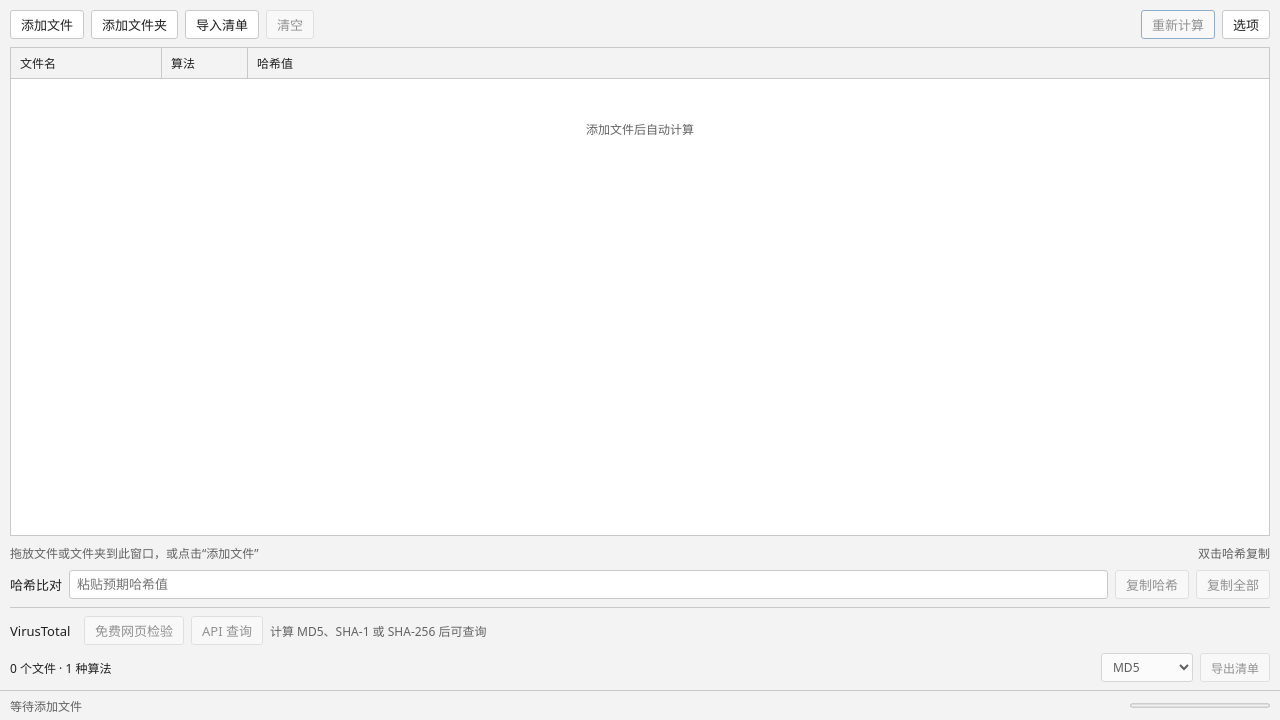
Scenario: cancels an active task and shows its final cancelled state
Click the button "添加文件" at (47, 24), box x1=10 y1=10 x2=84 y2=39
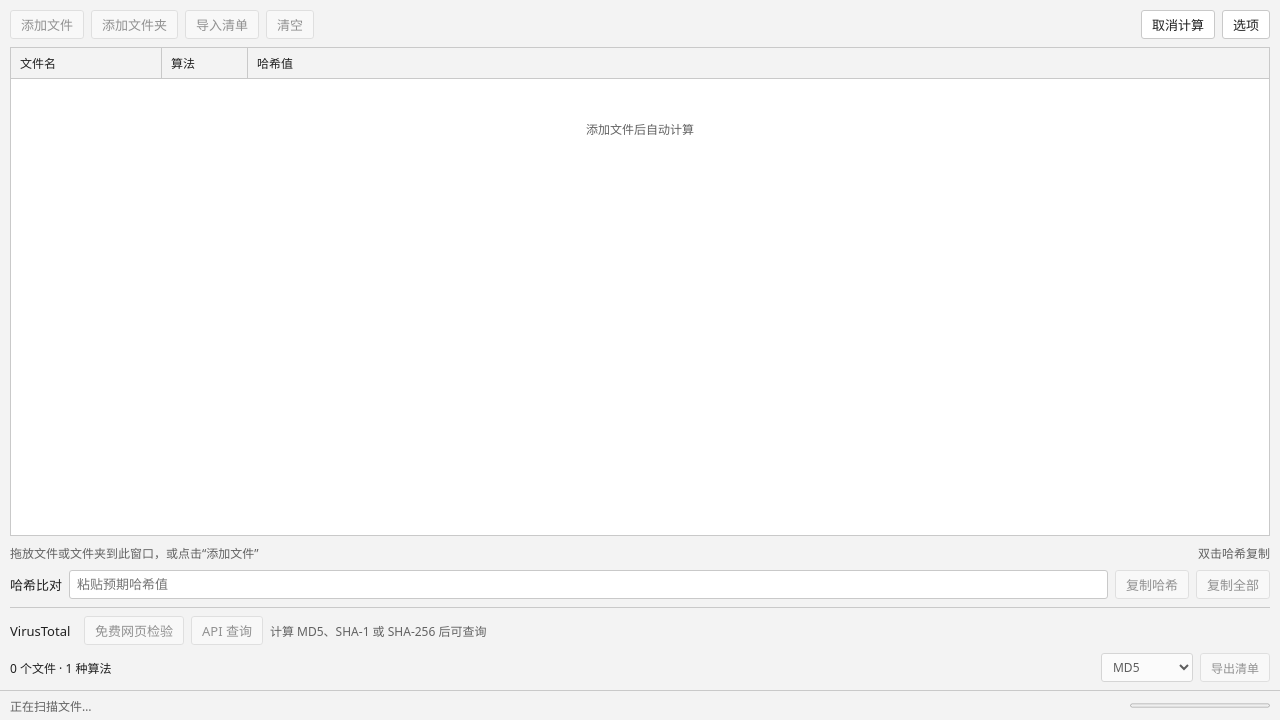
Expected: the button "取消计算" is shown
Expected: the button "添加文件" is disabled, x1=10 y1=10 x2=84 y2=39
Click the button "取消计算" at (1178, 24), box x1=1141 y1=10 x2=1215 y2=39
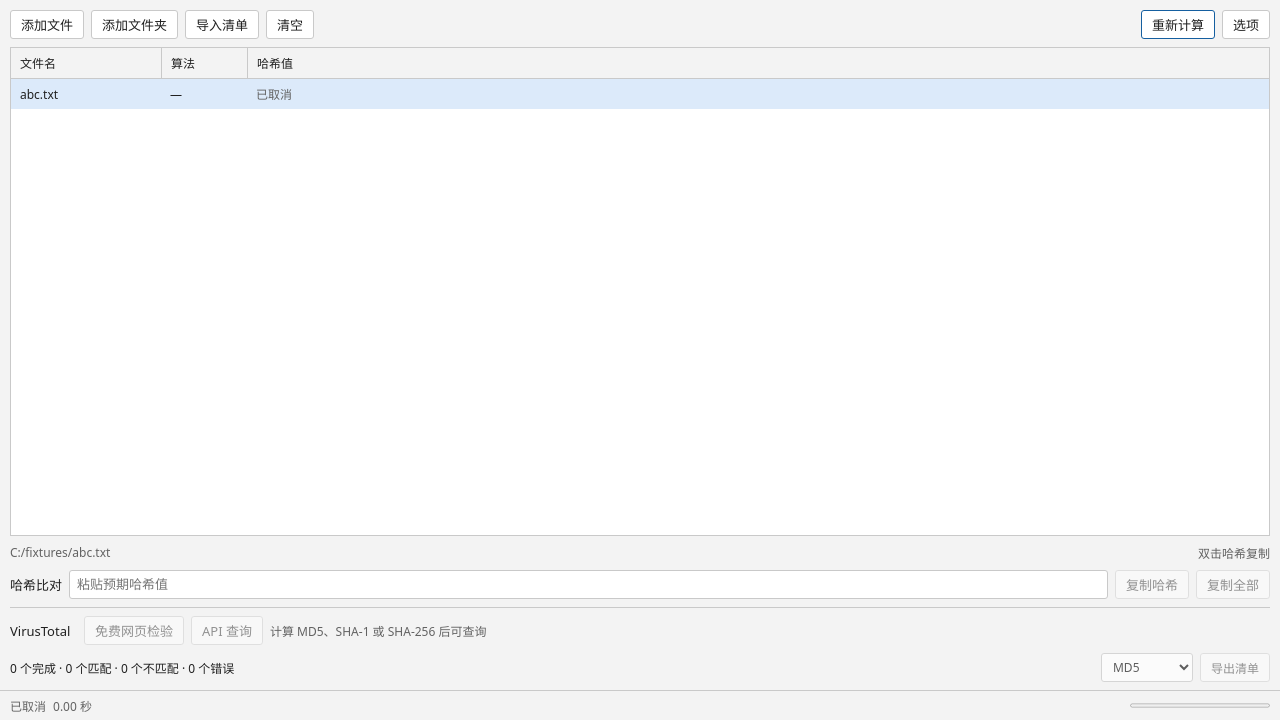
Expected: the button "重新计算" is enabled, x1=1141 y1=10 x2=1215 y2=39
Expected: the text "已取消" is shown, x1=256 y1=86 x2=292 y2=103
